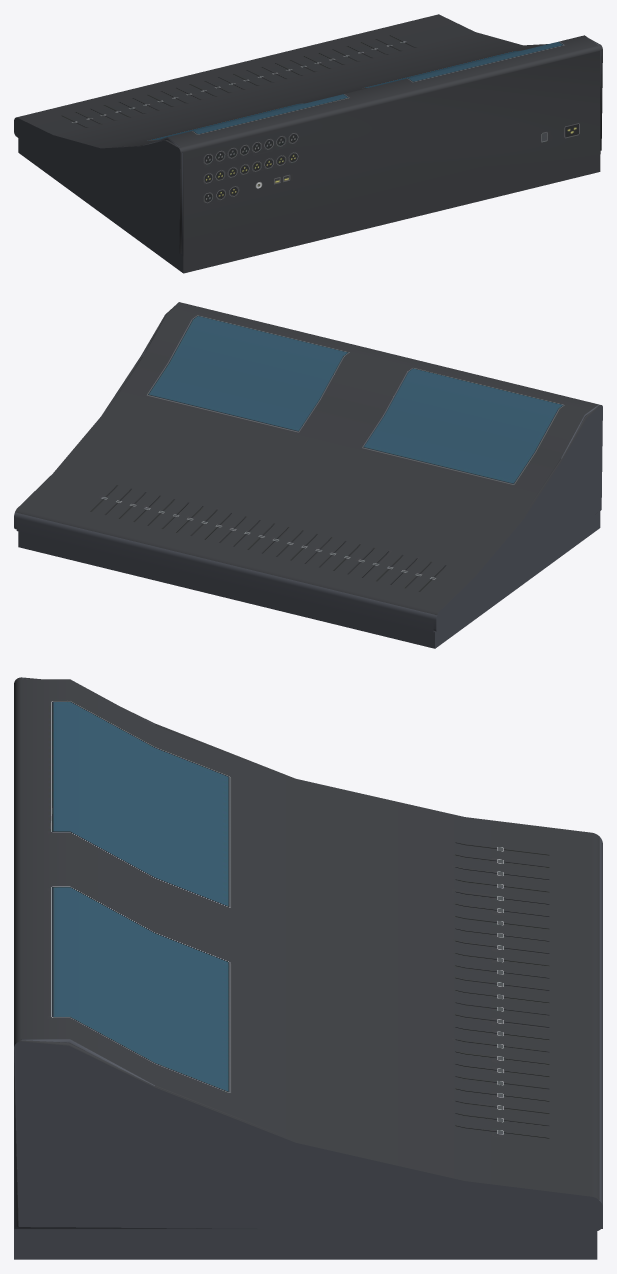
The model's file is allen-heath-avantis.glb.
3 renders of one model, top to bottom at view 1: azimuth 30°, elevation 25°; view 2: azimuth 150°, elevation 25°; view 3: azimuth 270°, elevation 25°, orthographic. The views are drawn at different scales.
Parts seen in each view (by area): view 1: allen-heath-avantis-body; view 2: allen-heath-avantis-body; view 3: allen-heath-avantis-body.
Boxes of the visible parts, box(x1,y1,x2,y2) form: allen-heath-avantis-body: box(14, 14, 602, 273); allen-heath-avantis-body: box(14, 302, 602, 648); allen-heath-avantis-body: box(14, 677, 602, 1259).
Size of the model in its own units: 0.917 by 0.269 by 0.627.
Materials: 1 (1 with a texture image).
